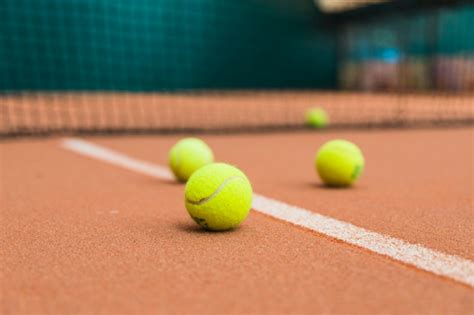tennis_ball: (184, 162, 254, 231), (315, 138, 365, 187), (167, 136, 214, 183), (308, 106, 328, 129)
